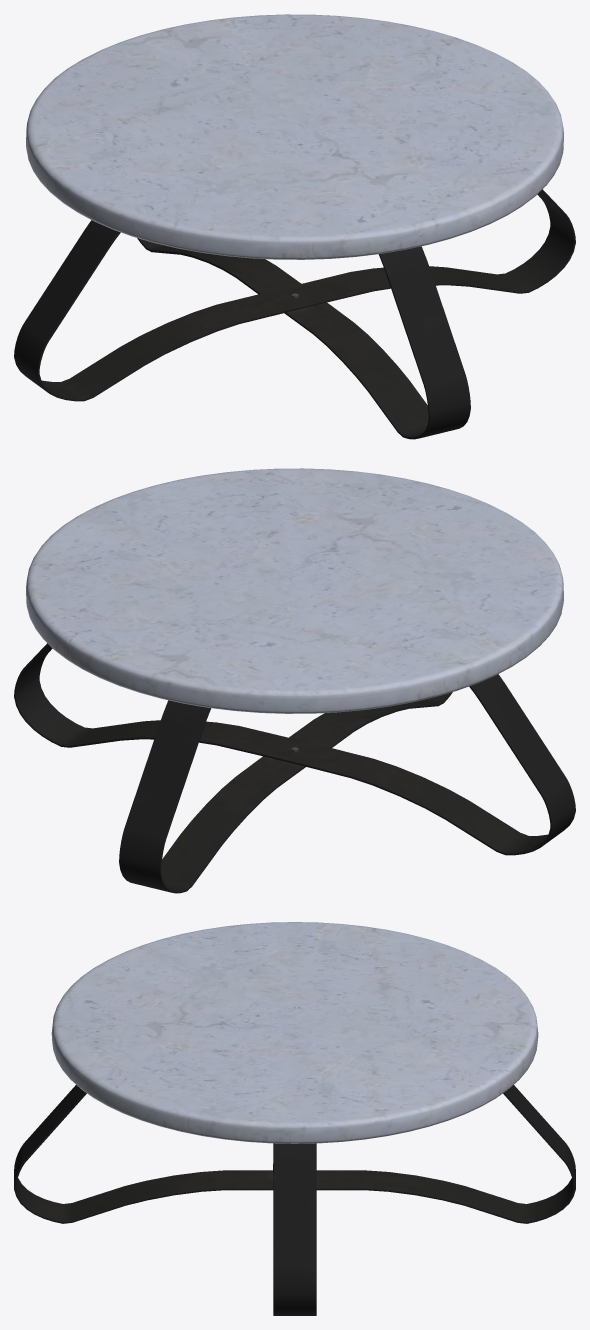
3 views of the same model, one above another, from view 1: azimuth 30°, elevation 25°; view 2: azimuth 150°, elevation 25°; view 3: azimuth 270°, elevation 25° (orthographic). The views are drawn at different scales.
Visible parts, largest first — view 1: coffee_table_round_01; view 2: coffee_table_round_01; view 3: coffee_table_round_01.
Part boxes in pixels (<box>): coffee_table_round_01: <box>14,14,575,439</box>; coffee_table_round_01: <box>14,468,575,893</box>; coffee_table_round_01: <box>14,922,575,1315</box>.
Size of the model in its own units: 1.3 by 0.491 by 1.3.
Materials: 1 (1 with a texture image).
